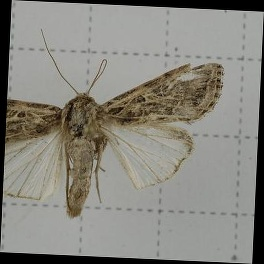Spodoptera litura: (6, 31, 223, 220)
